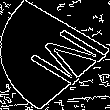M_SE: (8, 21, 102, 89)
